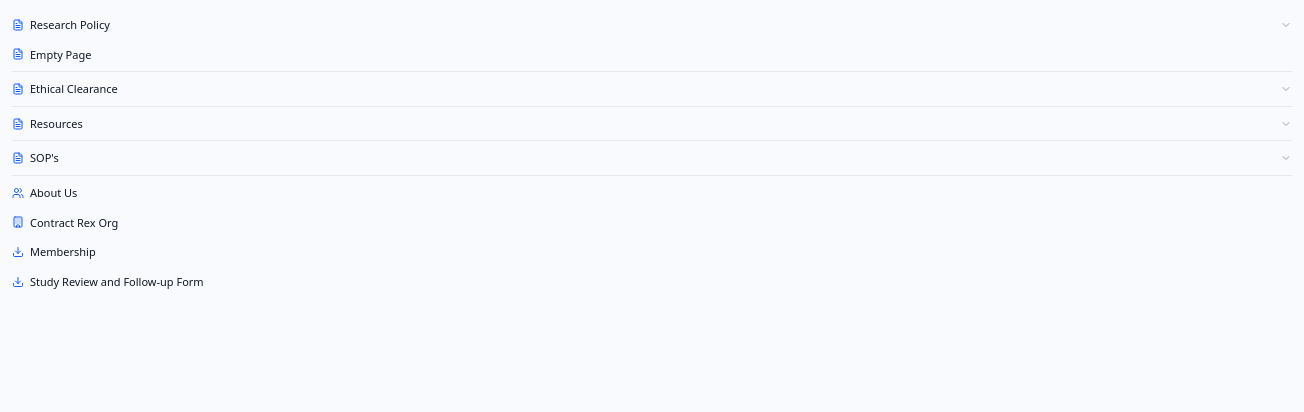
PagesDropdown › expands child page node on click
Click the button "Research Policy" at (70, 24), box [12,12,1292,38]
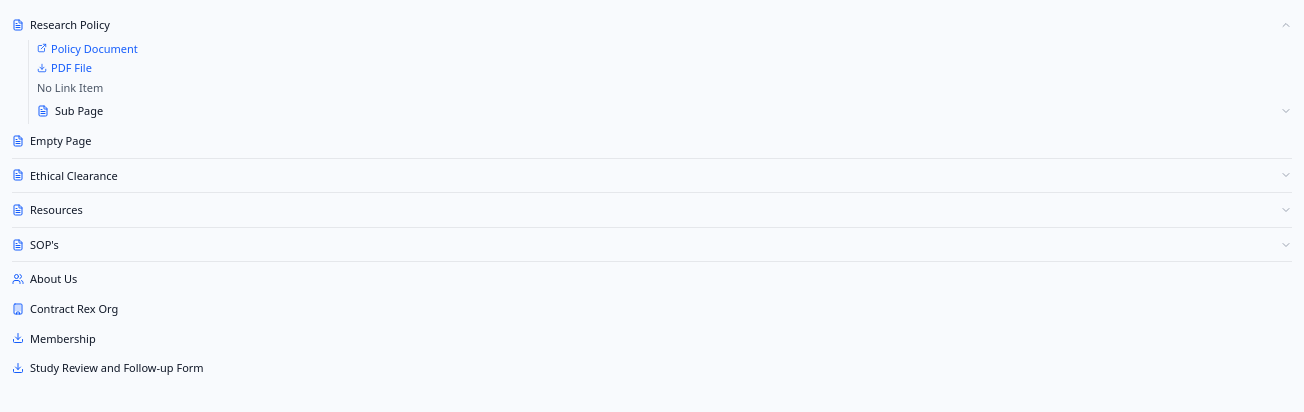
Click the button "Sub Page" at (79, 111), box [37,98,1292,124]
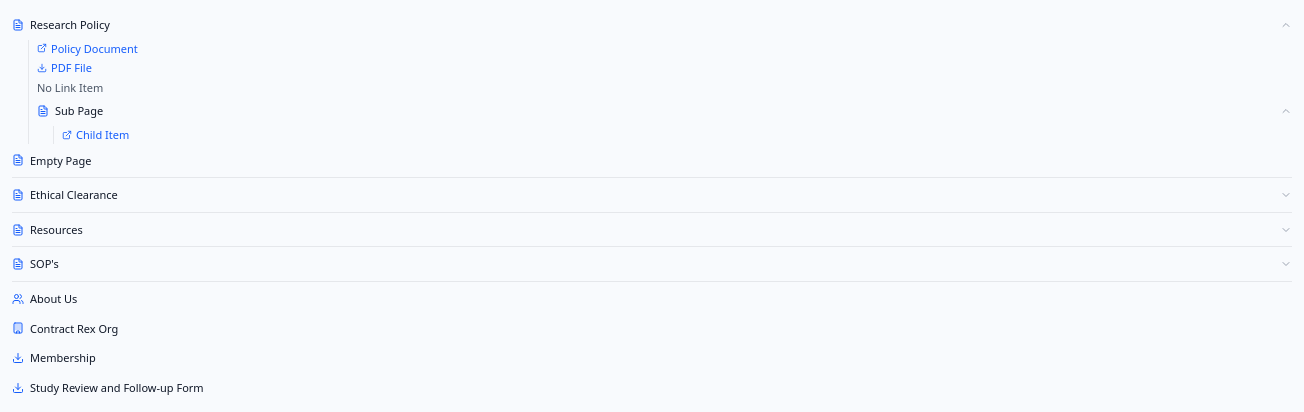
Expected: the link "Child Item" is shown, [62,127,129,142]
